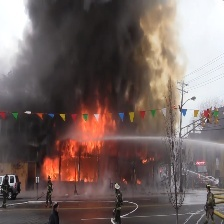fire: (43, 100, 115, 185)
